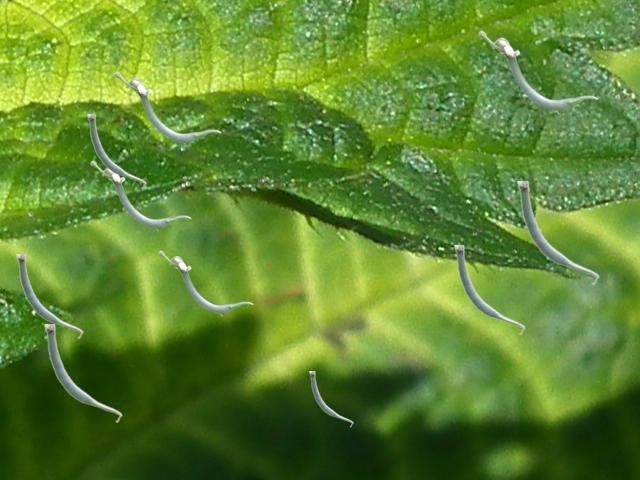french_bean: (478, 30, 597, 113), (517, 181, 598, 284), (114, 71, 220, 145), (44, 324, 121, 422), (90, 160, 190, 230), (454, 245, 524, 334), (158, 250, 252, 315), (16, 254, 82, 338), (87, 114, 145, 188), (309, 371, 352, 426)
